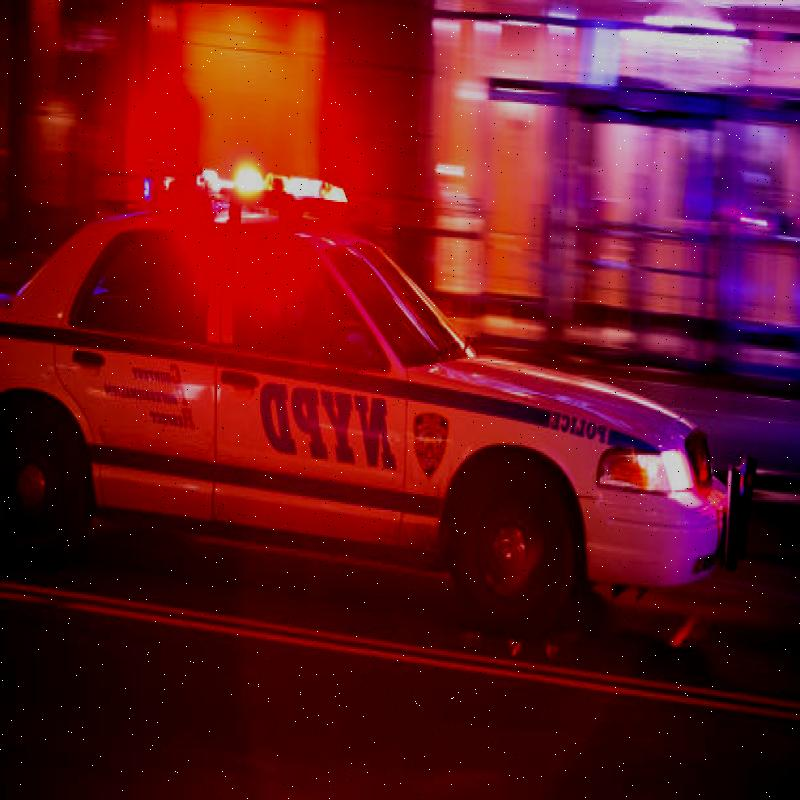AmbulanceSiren: (180, 136, 395, 223)
